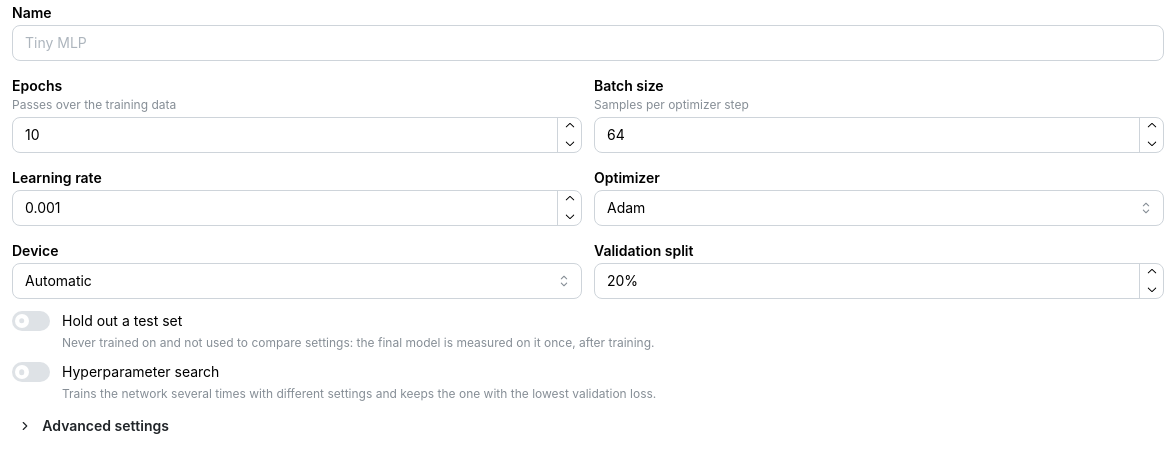
Test: SettingsForm › keeps unfinished decimals while the learning rate is edited
The width and height of the screenshot is (1176, 471).
Click the field labelled "Learning rate": click(297, 208) [12, 190, 582, 226]
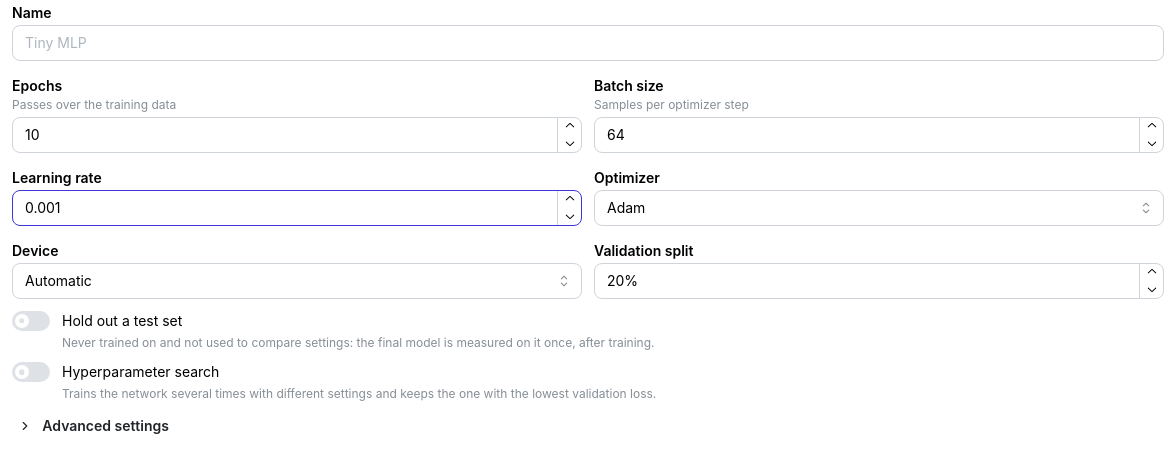
Press Backspace
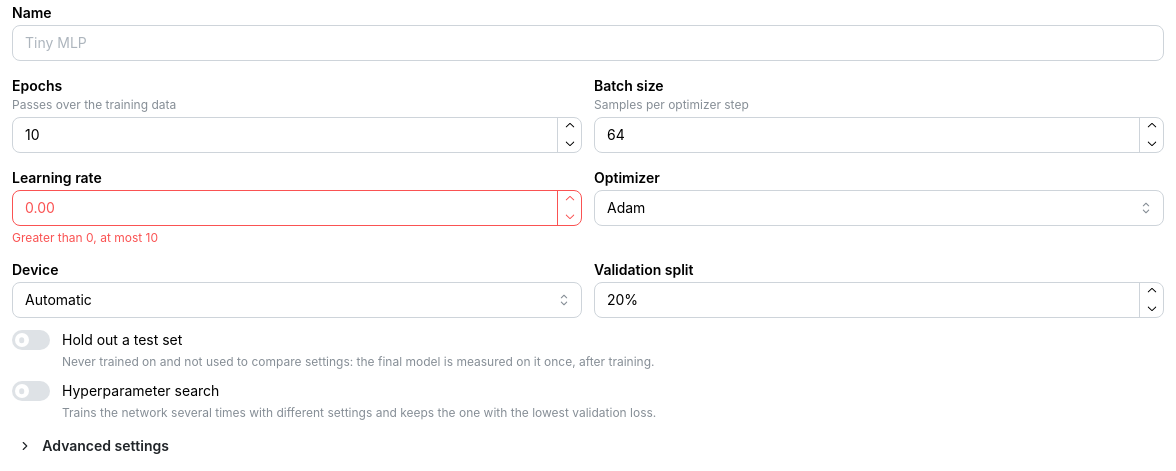
Expected: the field labelled "Learning rate" holds "0.00", [12, 190, 582, 226]
Type keys "5"
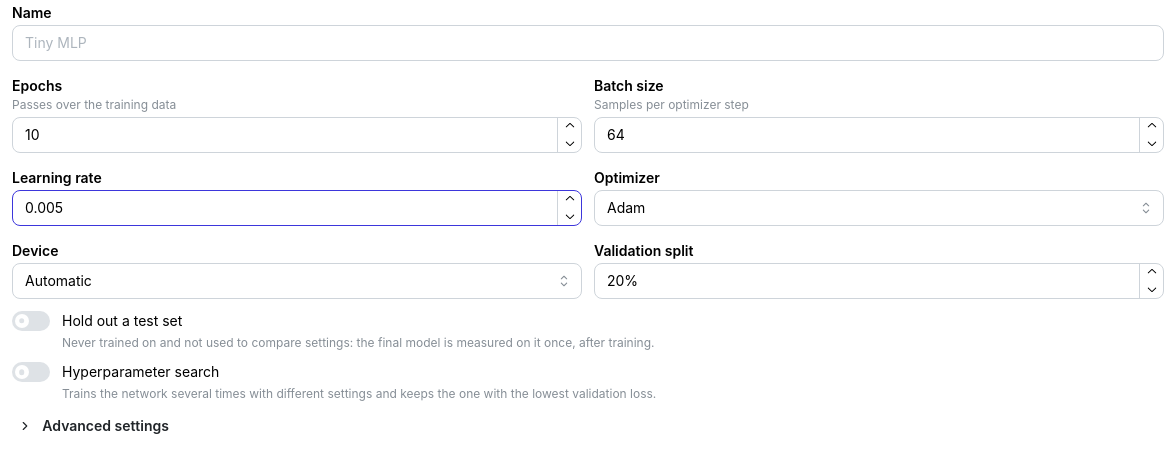
Expected: the field labelled "Learning rate" holds "0.005", [12, 190, 582, 226]
